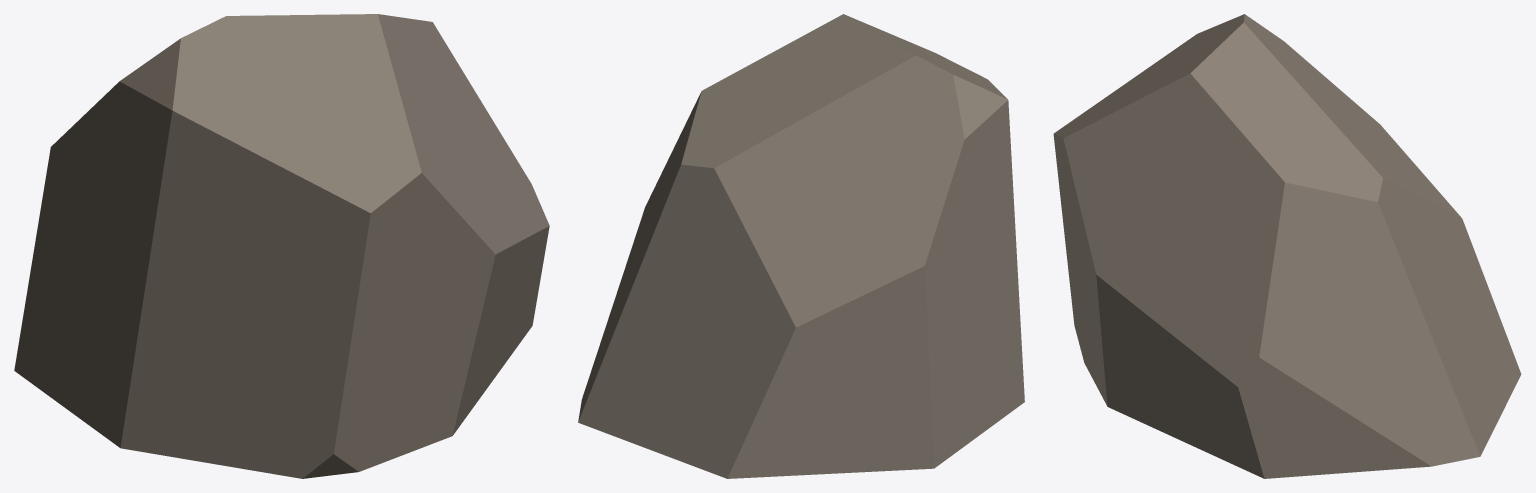
Rendered from piatra1.fbx.
The picture shows the model from 3 angles, left to right: view 1: azimuth 30°, elevation 25°; view 2: azimuth 150°, elevation 25°; view 3: azimuth 270°, elevation 25°; orthographic projection. The views are drawn at different scales.
Parts seen in each view (by area): view 1: Stone1.2; view 2: Stone1.2; view 3: Stone1.2.
Boxes of the visible parts, left/top/right/bottom form: Stone1.2: left=14, top=14, right=549, bottom=478; Stone1.2: left=578, top=14, right=1024, bottom=478; Stone1.2: left=1053, top=14, right=1521, bottom=478.
Size of the model in its own units: 155 by 135 by 173.
